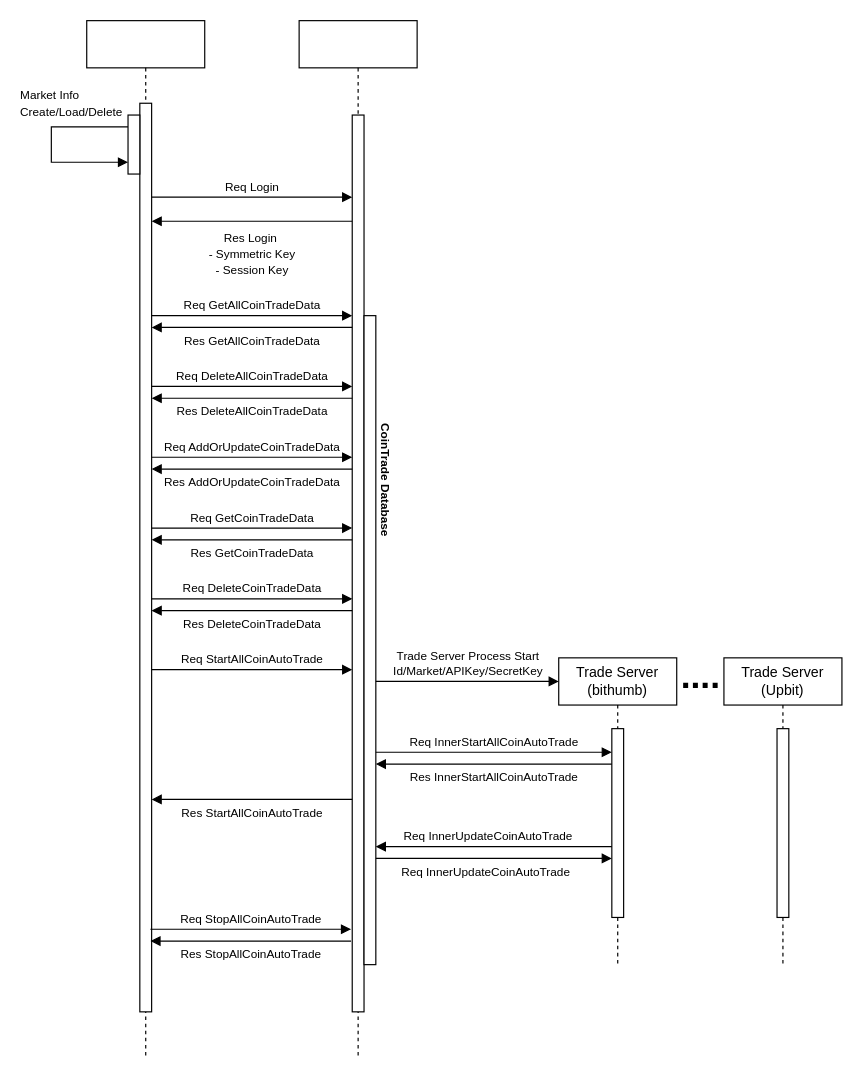
Some shapes in this 863 by 1080 pixel diagram are drawn without their labels. The shapes that lost their labels are listed below. From the top down, each one's box as (x1, y1, x2, y2) in pixels, then its label:
(86, 19, 205, 1059): Client
(298, 19, 417, 1059): Proxy Server
